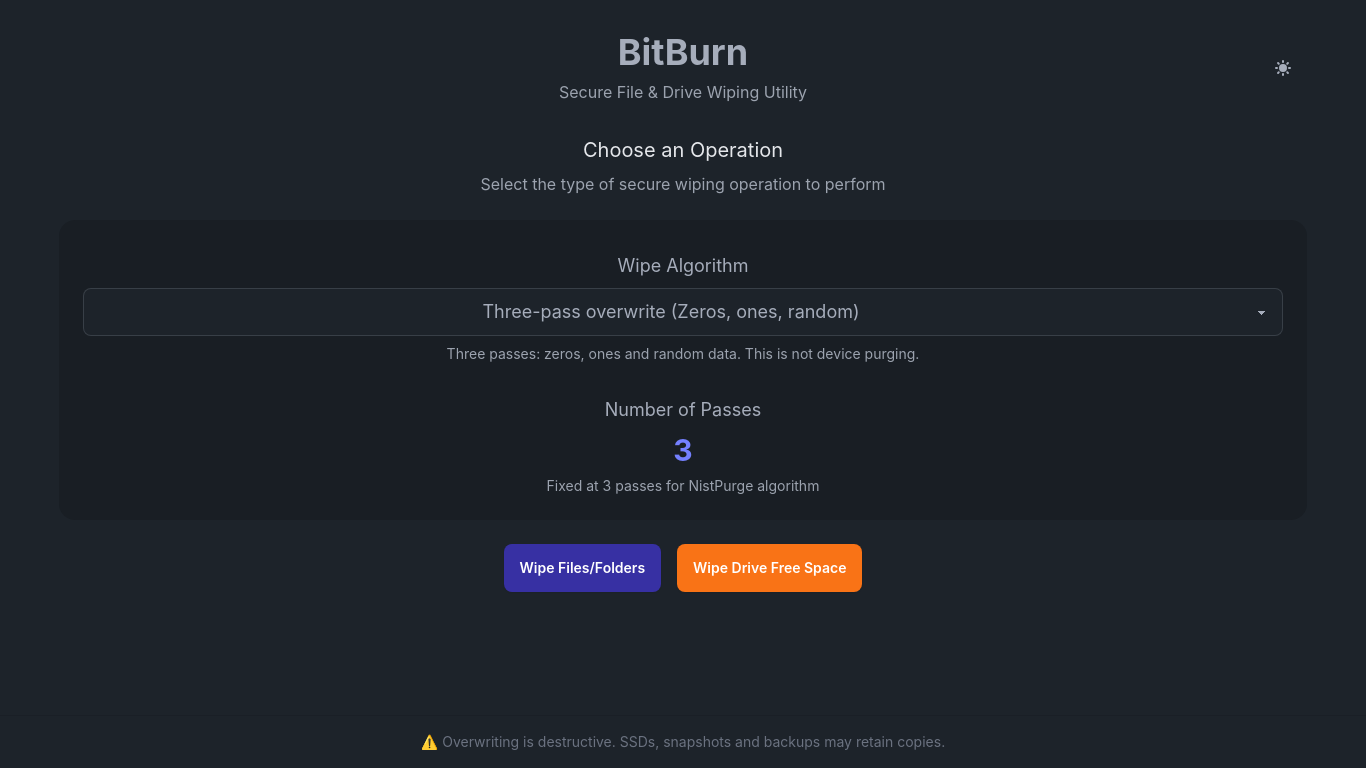
BitBurn UI Tests › File Selection Mode › should switch to files mode when clicking Wipe Files/Folders
Click the button "Wipe Files/Folders" at (582, 568), box [504,544,661,592]
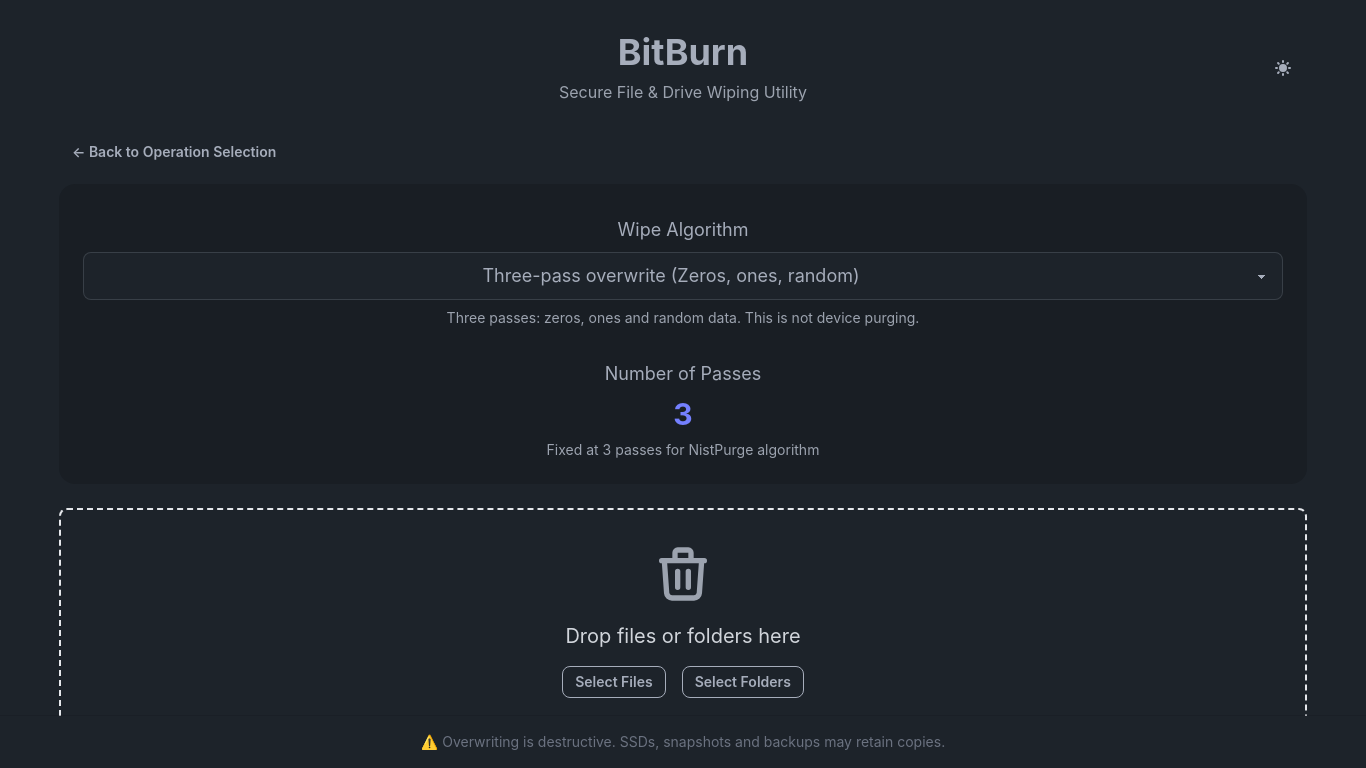
Result: the button "Select Files" is shown at [562,666,666,698]
